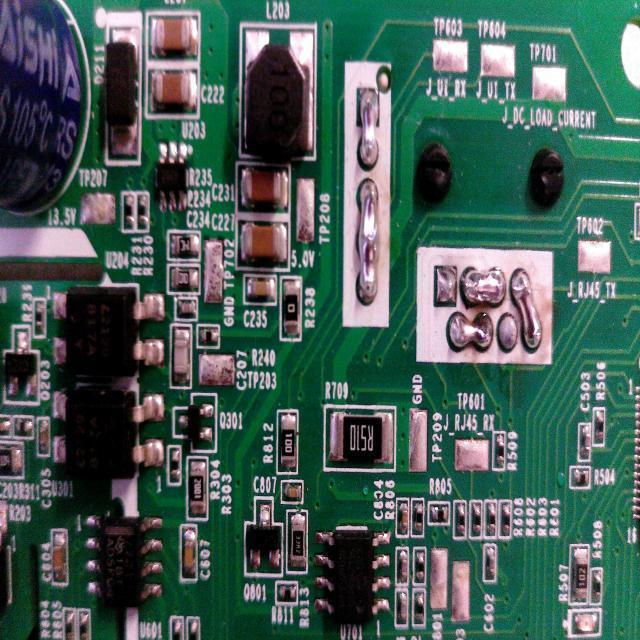Soldering shorted: (508, 264, 548, 359), (355, 172, 381, 306), (458, 260, 506, 306), (448, 311, 494, 355), (357, 89, 381, 168)
